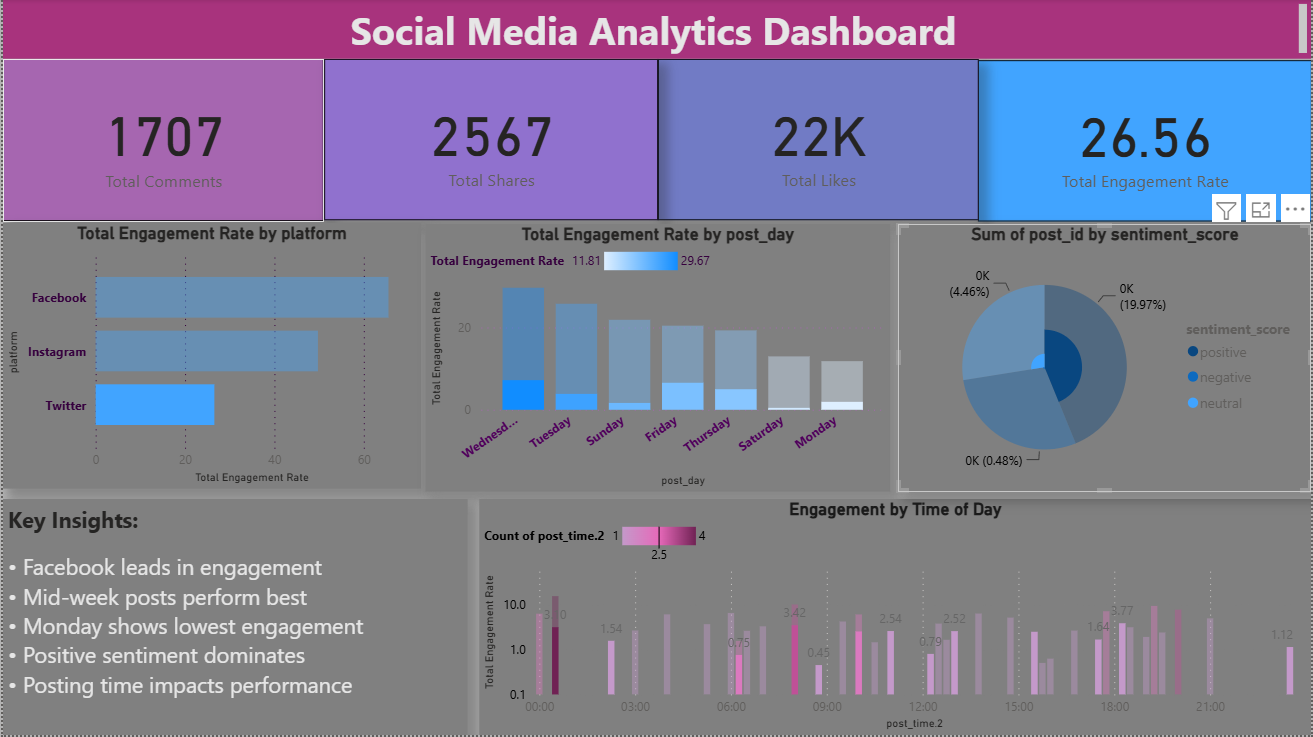

This screenshot's page, from the dashboard's own definition file:
{"tool":"powerbi","page":{"name":"Page 1","canvas":[1280,720],"ordinal":0},"visuals":[{"type":"card","title":"Total Comments","fields":{"Values":["social_media_engagement1 (2).Total Comments"]},"box":[0,58.8,313.8,158.8],"z":0},{"type":"card","fields":{"Values":["social_media_engagement1 (2).Total Engagement Rate"]},"box":[953.8,60,326.2,157.5],"z":1000},{"type":"card","fields":{"Values":["social_media_engagement1 (2).Total Likes"]},"box":[640,58.8,313.8,157.5],"z":2000},{"type":"card","fields":{"Values":["social_media_engagement1 (2).Total Shares"]},"box":[314.2,58.7,326.4,157.7],"z":3000},{"type":"barChart","fields":{"Category":["social_media_engagement1 (2).platform"],"Y":["social_media_engagement1 (2).Total Engagement Rate"]},"box":[0,218.8,408.8,260],"z":4000},{"type":"pieChart","fields":{"Category":["social_media_engagement1 (2).sentiment_score"],"Y":["Sum(social_media_engagement1 (2).post_id)"]},"box":[875,220,405,261.2],"z":5000},{"type":"columnChart","fields":{"Y":["social_media_engagement1 (2).Total Engagement Rate"],"Category":["social_media_engagement1 (2).post_day"]},"box":[413.2,220,454.7,261.6],"z":6000},{"type":"textbox","box":[0,0,1280,58.8],"z":7000},{"type":"textbox","box":[0,488.5,454.2,231.9],"z":8000},{"type":"clusteredColumnChart","title":"Engagement by Time of Day","fields":{"Category":["social_media_engagement1 (2).post_time.2"],"Y":["social_media_engagement1 (2).Total Engagement Rate"]},"box":[465.7,489,814.1,231],"z":9000}]}

Visuals, with their boxes in screenshot pixels (x1, y1, x2, y2), scaled from the page's 1280x720 canvas onto the 1313x737 screenshot:
"Total Comments" card: (0, 60, 322, 223)
card - social_media_engagement1 (2).Total Engagement Rate: (978, 61, 1312, 223)
card - social_media_engagement1 (2).Total Likes: (656, 60, 978, 221)
card - social_media_engagement1 (2).Total Shares: (322, 60, 657, 222)
barChart - social_media_engagement1 (2).platform x social_media_engagement1 (2).Total Engagement Rate: (0, 224, 419, 490)
pieChart - social_media_engagement1 (2).sentiment_score x Sum(social_media_engagement1 (2).post_id): (898, 225, 1312, 493)
columnChart - social_media_engagement1 (2).Total Engagement Rate x social_media_engagement1 (2).post_day: (424, 225, 890, 493)
textbox: (0, 0, 1312, 60)
textbox: (0, 500, 466, 736)
"Engagement by Time of Day" clusteredColumnChart: (478, 501, 1312, 736)
